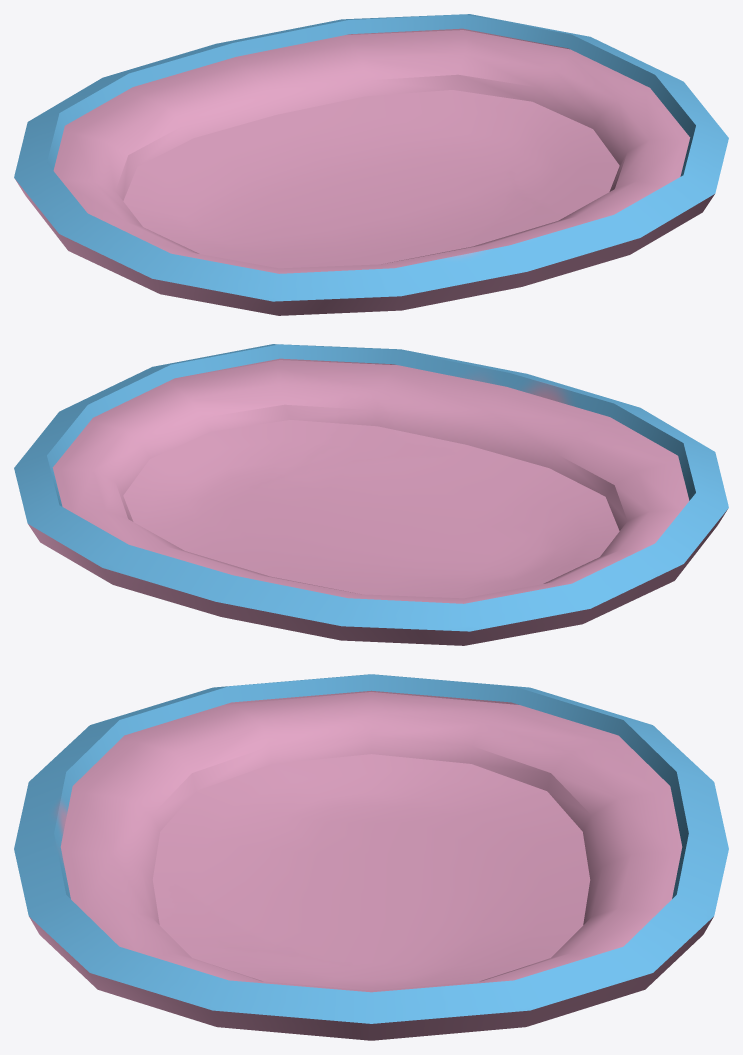
File: Prato.fbx
3 views of the same model, one above another, from view 1: azimuth 30°, elevation 25°; view 2: azimuth 150°, elevation 25°; view 3: azimuth 270°, elevation 25° (orthographic). The views are drawn at different scales.
Visible parts, largest first — view 1: Prato; view 2: Prato; view 3: Prato.
Part boxes in pixels (left/top/right/bottom): Prato: left=14, top=14, right=728, bottom=315; Prato: left=14, top=344, right=728, bottom=645; Prato: left=14, top=674, right=728, bottom=1040.
Bounding box in the file's own units: 53.09 × 5.28 × 45.86.
